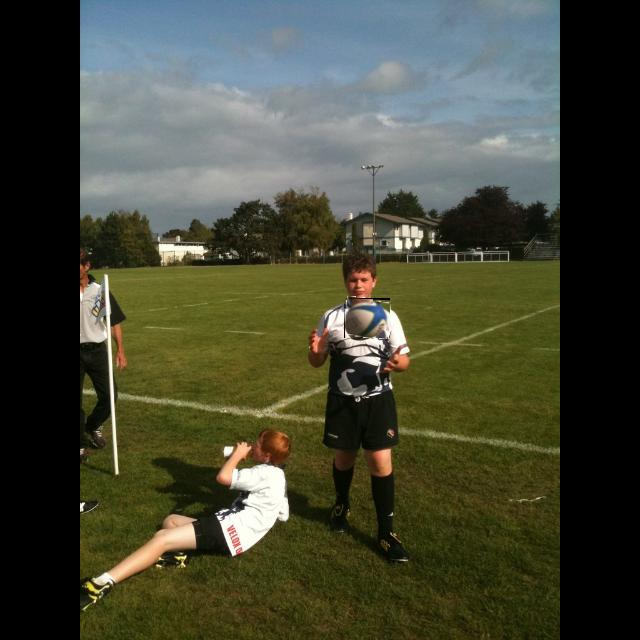Football: (344, 298, 390, 338)
